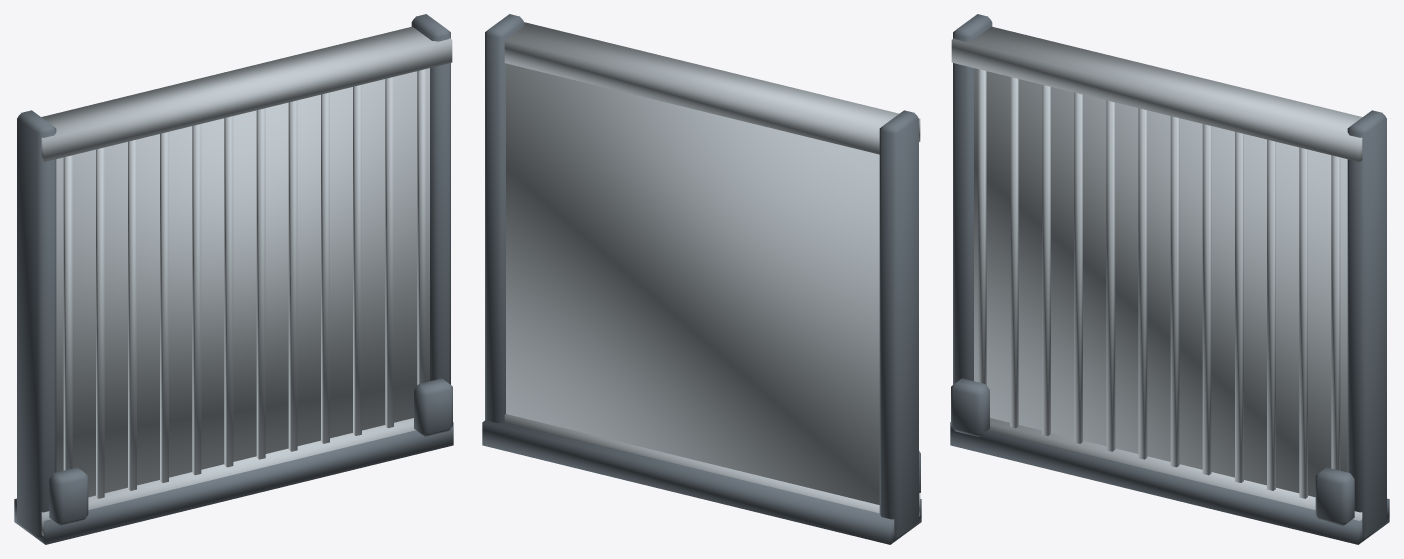
Rendered from factory_wall_enhanced.glb.
3 renders of one model, left to right at view 1: azimuth 30°, elevation 25°; view 2: azimuth 150°, elevation 25°; view 3: azimuth 330°, elevation 25°, orthographic.
Parts seen in each view (by area): view 1: Wall_steel, Seams_steel, Frame_dark, Frame_steel, Base_dark, Footing_dark; view 2: Wall_steel, Frame_dark, Frame_steel, Base_dark; view 3: Wall_steel, Seams_steel, Frame_dark, Frame_steel, Base_dark, Footing_dark.
Part boxes in pixels (x1=…): Wall_steel: x1=56, y1=68, x2=429, y2=497; Seams_steel: x1=63, y1=69, x2=426, y2=498; Frame_dark: x1=17, y1=14, x2=450, y2=538; Frame_steel: x1=41, y1=26, x2=452, y2=536; Base_dark: x1=14, y1=422, x2=453, y2=544; Footing_dark: x1=49, y1=378, x2=452, y2=525; Wall_steel: x1=506, y1=63, x2=879, y2=504; Frame_dark: x1=485, y1=14, x2=918, y2=538; Frame_steel: x1=504, y1=22, x2=920, y2=516; Base_dark: x1=482, y1=420, x2=921, y2=544; Wall_steel: x1=974, y1=68, x2=1347, y2=497; Seams_steel: x1=977, y1=69, x2=1340, y2=498; Frame_dark: x1=953, y1=14, x2=1386, y2=538; Frame_steel: x1=951, y1=26, x2=1362, y2=520; Base_dark: x1=950, y1=422, x2=1389, y2=544; Footing_dark: x1=951, y1=378, x2=1354, y2=525.
Bounding box in the file's own units: 3.04 × 2.9 × 0.495.
